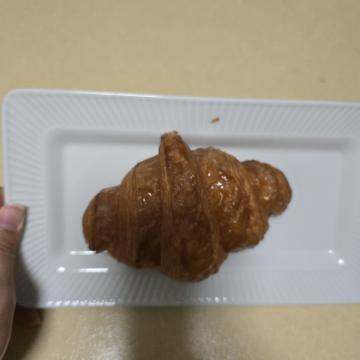croissant: (120, 60, 298, 289)
